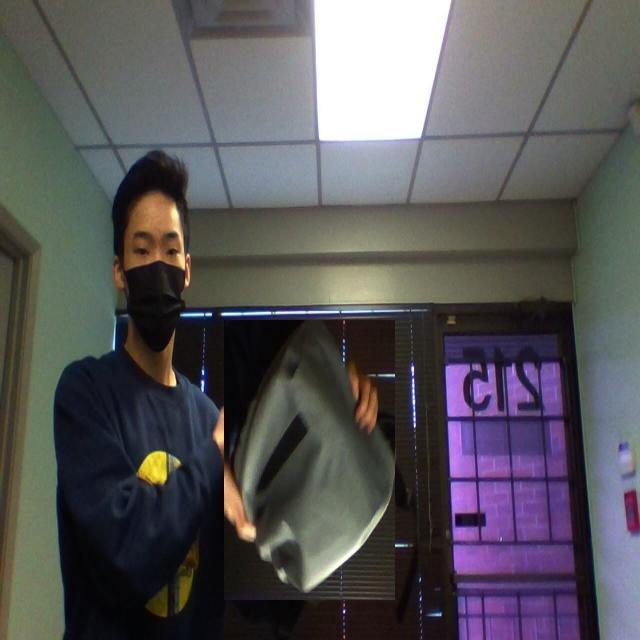Backpacks: (224, 320, 396, 601)
